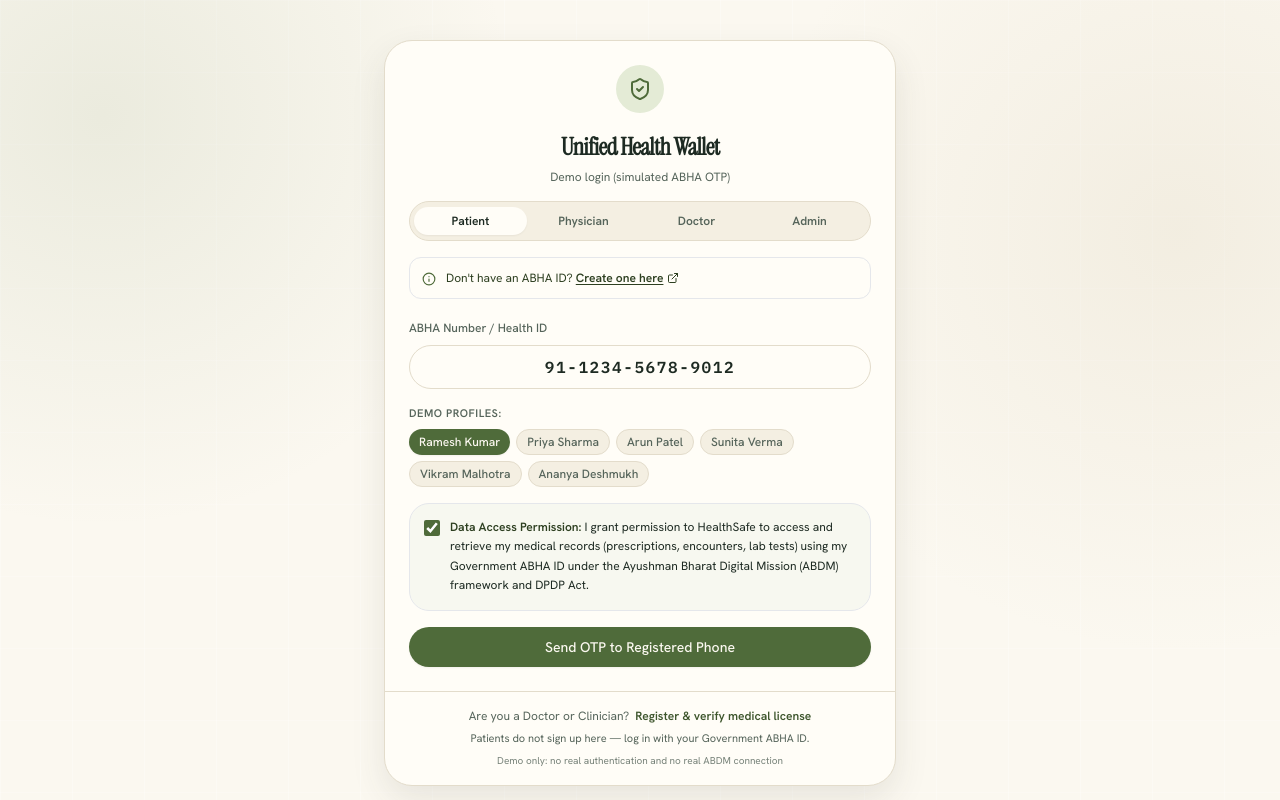
Test: Mock Login Flow & AuthContext › rejects incorrect OTP and displays error message
Click the button "Send OTP to Registered Phone".
click(640, 647)  # box [409,627,871,667]
Wait 1100 ms
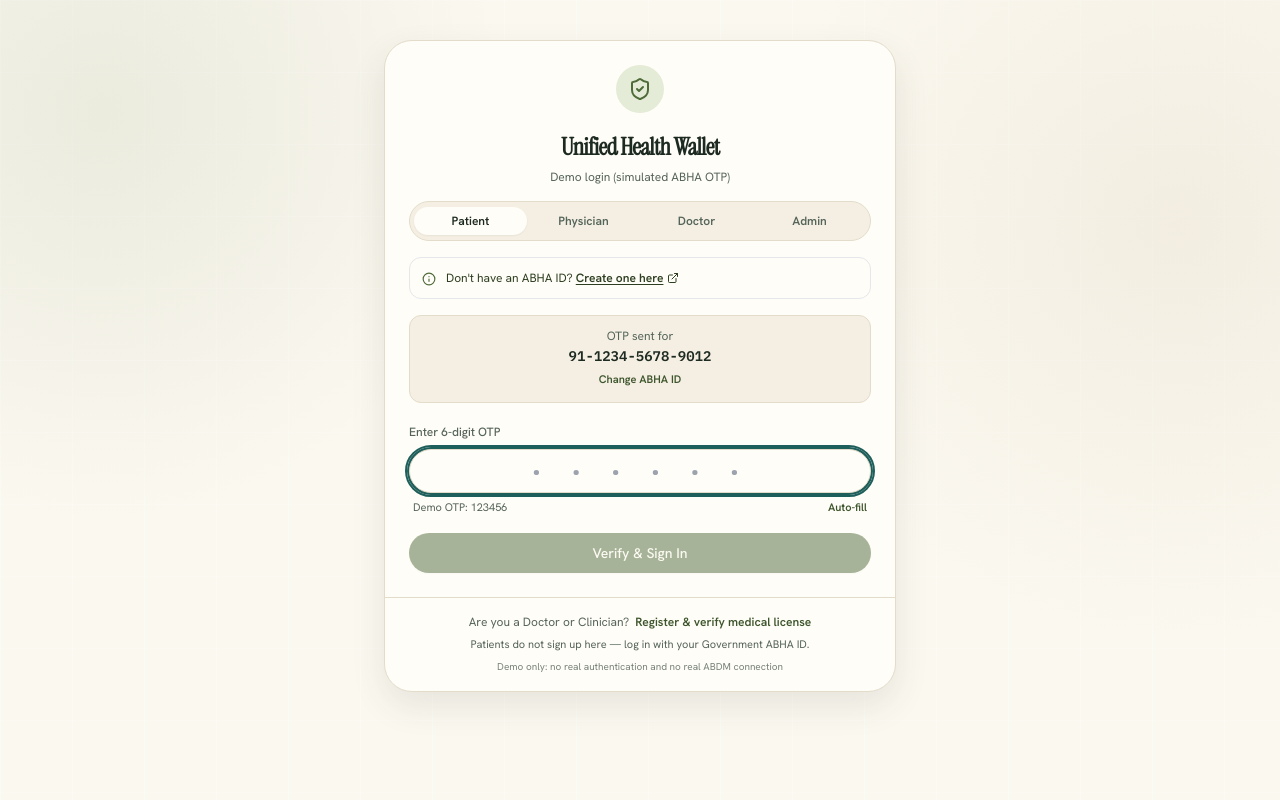
Type "999999" into the field labelled "Enter 6-digit OTP".
click(640, 471); type("999999")  # box [409,449,871,493]
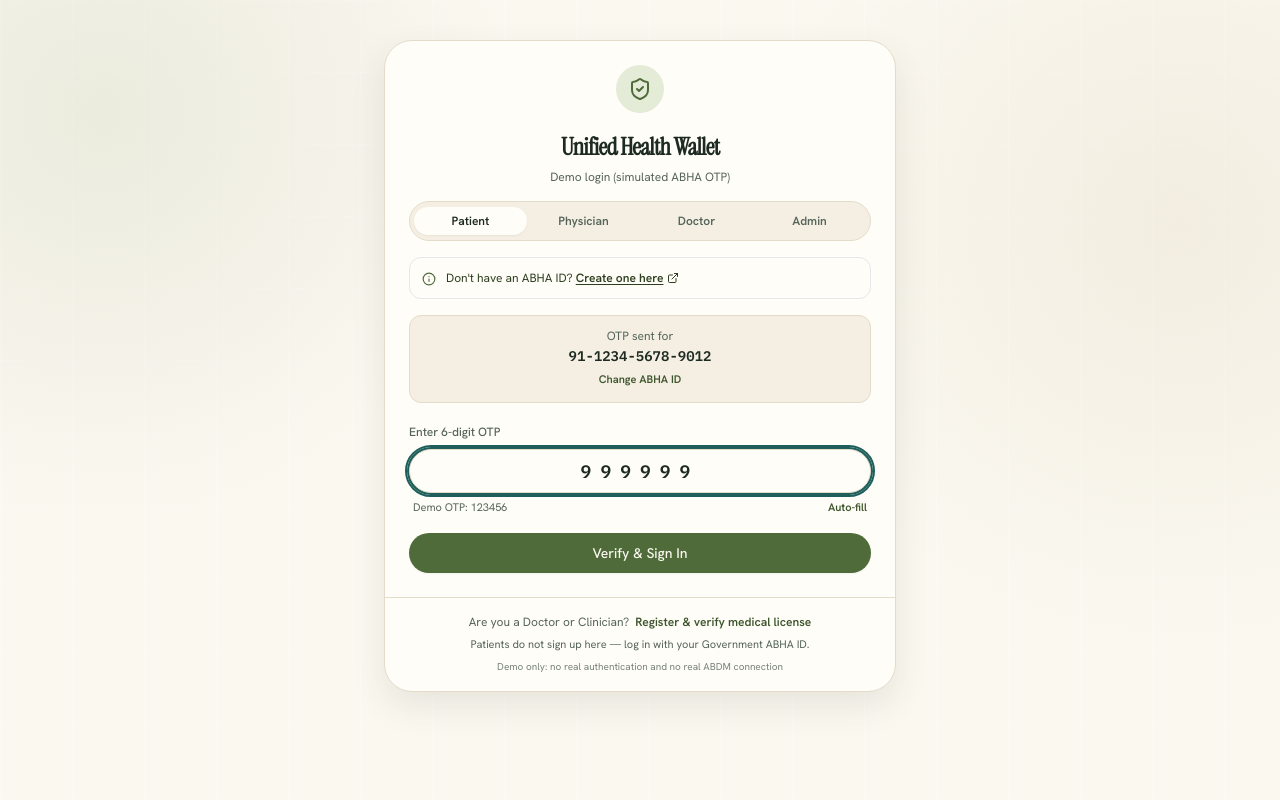
Click the button "Verify & Sign In".
click(640, 553)  # box [409,533,871,573]
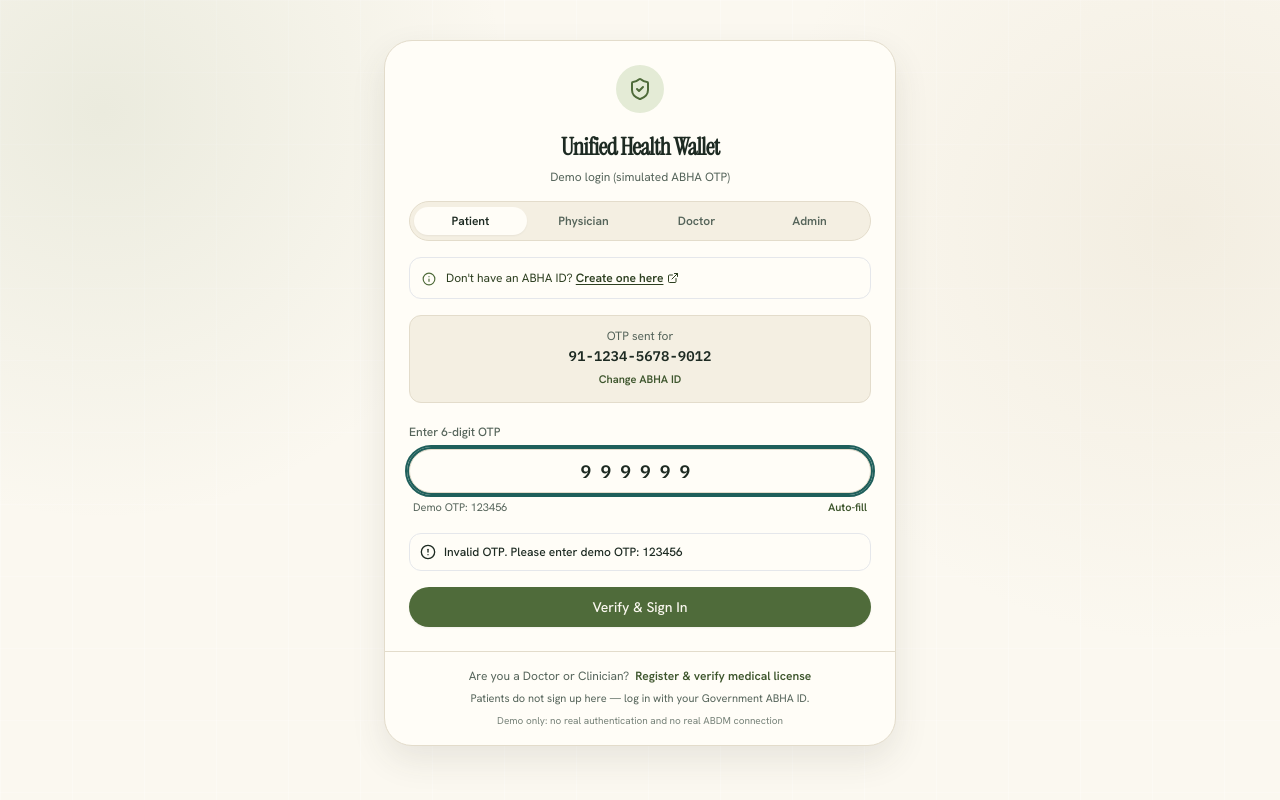
Expected: the text "Invalid OTP. Please enter demo OTP: 123456" is shown, [444,544,683,560]
